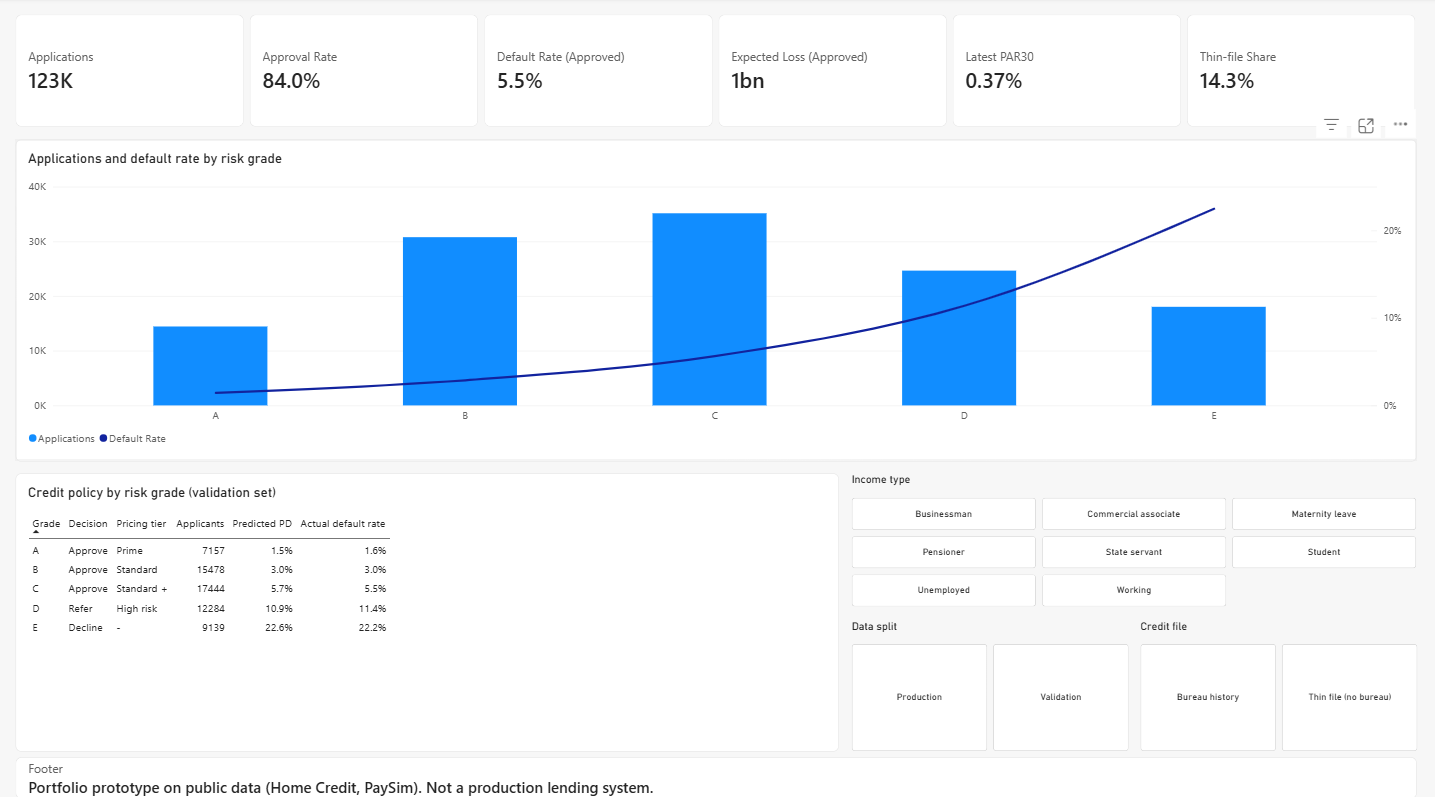

Layout of this report page (visuals, bound fields, positions):
{"tool":"powerbi","page":{"name":"Portfolio overview","canvas":[1920,1080],"ordinal":0},"visuals":[{"type":"cardVisual","fields":{"Data":["_Measures.Applications","_Measures.Approval Rate","_Measures.Default Rate (Approved)","_Measures.Expected Loss (Approved)","_Measures.Latest PAR30","_Measures.Thin-file Share"]},"box":[24,24,1872,150],"z":0},{"type":"lineClusteredColumnComboChart","title":"Applications and default rate by risk grade","fields":{"Category":["risk_grades.grade"],"Y":["_Measures.Applications"],"Y2":["_Measures.Default Rate"]},"box":[24,190,1872,430],"z":1},{"type":"tableEx","title":"Credit policy by risk grade (validation set)","fields":{"Values":["risk_grades.grade","risk_grades.decision","risk_grades.pricing_tier","Sum(risk_grades.n)","risk_grades.predicted_PD","risk_grades.actual_DR"]},"box":[24,636,1100,372],"z":2},{"type":"advancedSlicerVisual","fields":{"Values":["fact_applications.split"]},"box":[1140,832,370,176],"z":3},{"type":"advancedSlicerVisual","fields":{"Values":["fact_applications.NAME_INCOME_TYPE"]},"box":[1140,636,756,180],"z":4},{"type":"advancedSlicerVisual","fields":{"Values":["fact_applications.File Type"]},"box":[1526,832,370,176],"z":5},{"type":"cardVisual","fields":{"Data":["_Measures.Footer"]},"box":[24,1016,1872,56],"z":6}]}

Visuals, with their boxes in screenshot pixels (x1, y1, x2, y2), scaled from the page's 1920x1080 canvas onto the 1435x797 screenshot:
cardVisual - _Measures.Applications x _Measures.Approval Rate: left=18, top=18, right=1417, bottom=128
"Applications and default rate by risk grade" lineClusteredColumnComboChart: left=18, top=140, right=1417, bottom=458
"Credit policy by risk grade (validation set)" tableEx: left=18, top=469, right=840, bottom=744
advancedSlicerVisual - fact_applications.split: left=852, top=614, right=1129, bottom=744
advancedSlicerVisual - fact_applications.NAME_INCOME_TYPE: left=852, top=469, right=1417, bottom=602
advancedSlicerVisual - fact_applications.File Type: left=1141, top=614, right=1417, bottom=744
cardVisual - _Measures.Footer: left=18, top=750, right=1417, bottom=791
